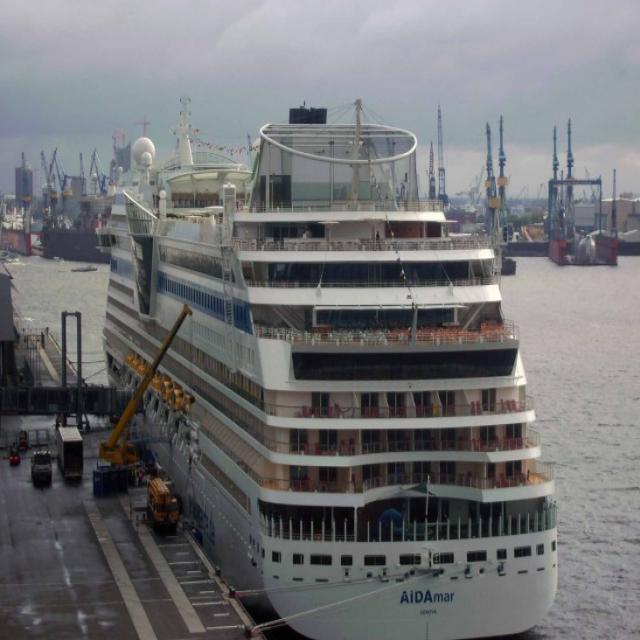cruises: (103, 106, 563, 640)
